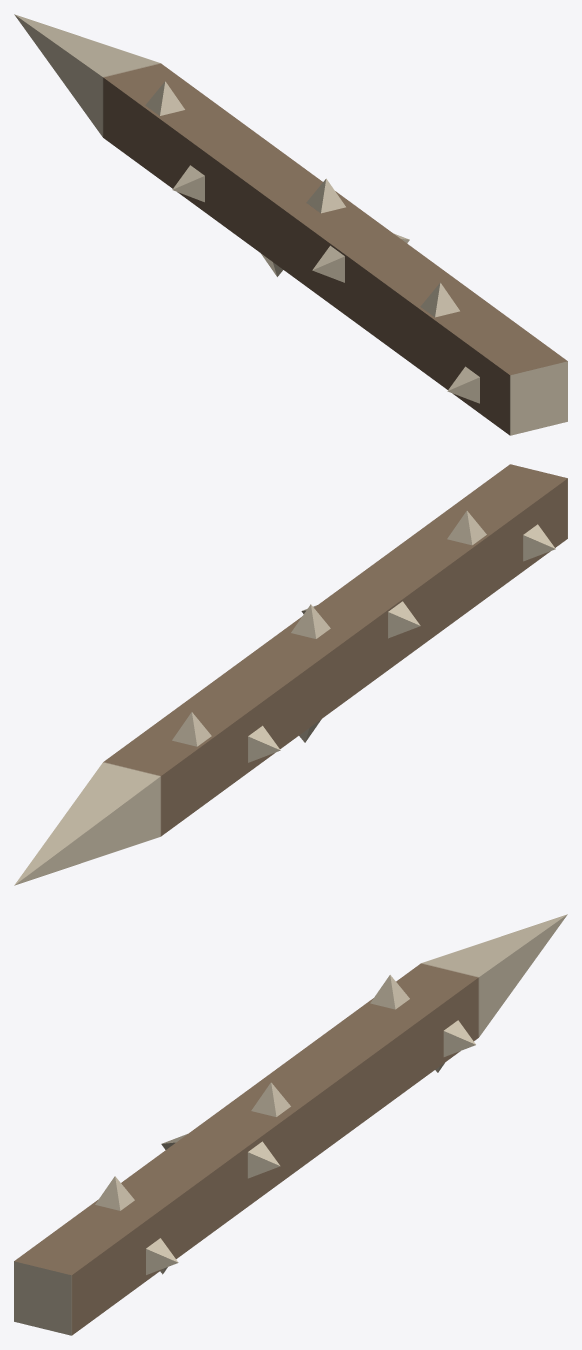
File: javelin(spiked).fbx
The picture shows the model from 3 angles, top to bottom: view 1: azimuth 30°, elevation 25°; view 2: azimuth 150°, elevation 25°; view 3: azimuth 330°, elevation 25°; orthographic projection.
Parts seen in each view (by area): view 1: javelin(spiked); view 2: javelin(spiked); view 3: javelin(spiked).
Boxes of the visible parts, x1,y1,x2,y2 form: javelin(spiked): (14,14,567,435); javelin(spiked): (14,464,567,885); javelin(spiked): (14,914,567,1335).
Size of the model in its own units: 13.02 by 13.02 by 109.
Materials: 1 (1 with a texture image).
